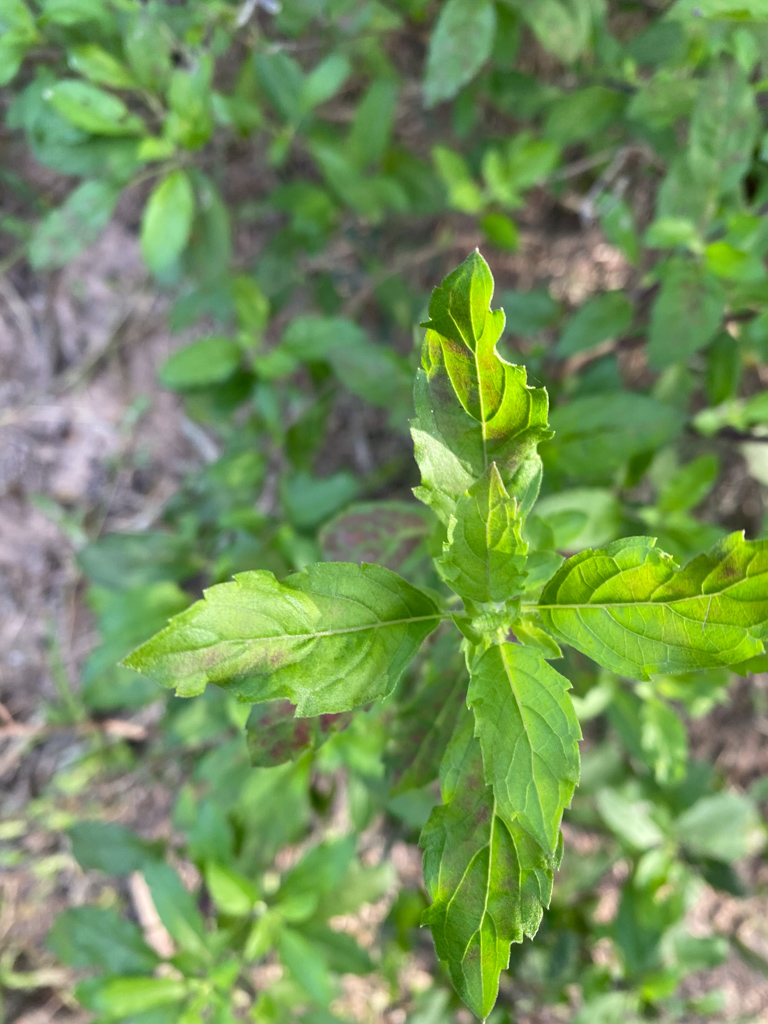Canker: (421, 309, 531, 490), (438, 764, 526, 974), (179, 636, 307, 689), (701, 549, 748, 593)
